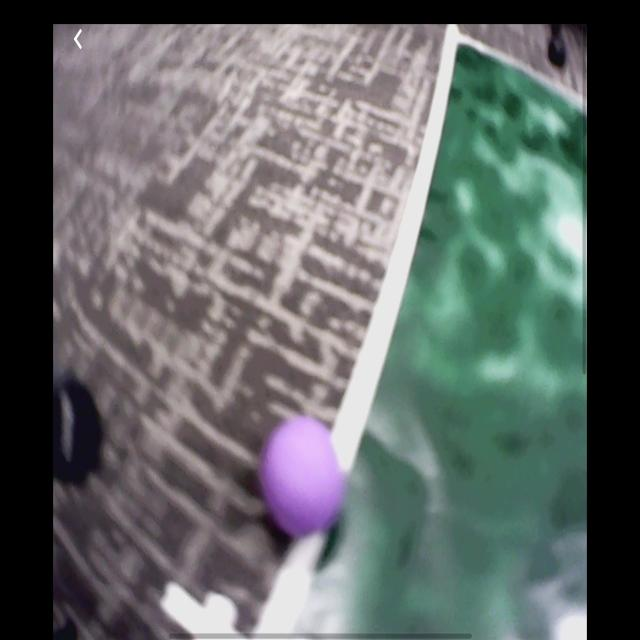ball: (262, 418, 344, 534)
